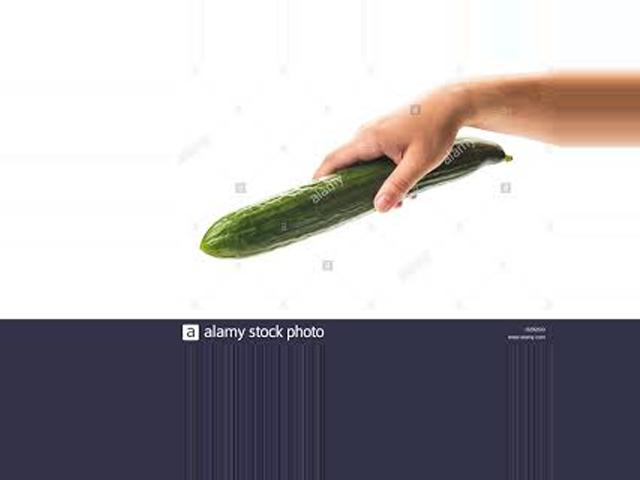cucumber: (199, 138, 514, 259)
